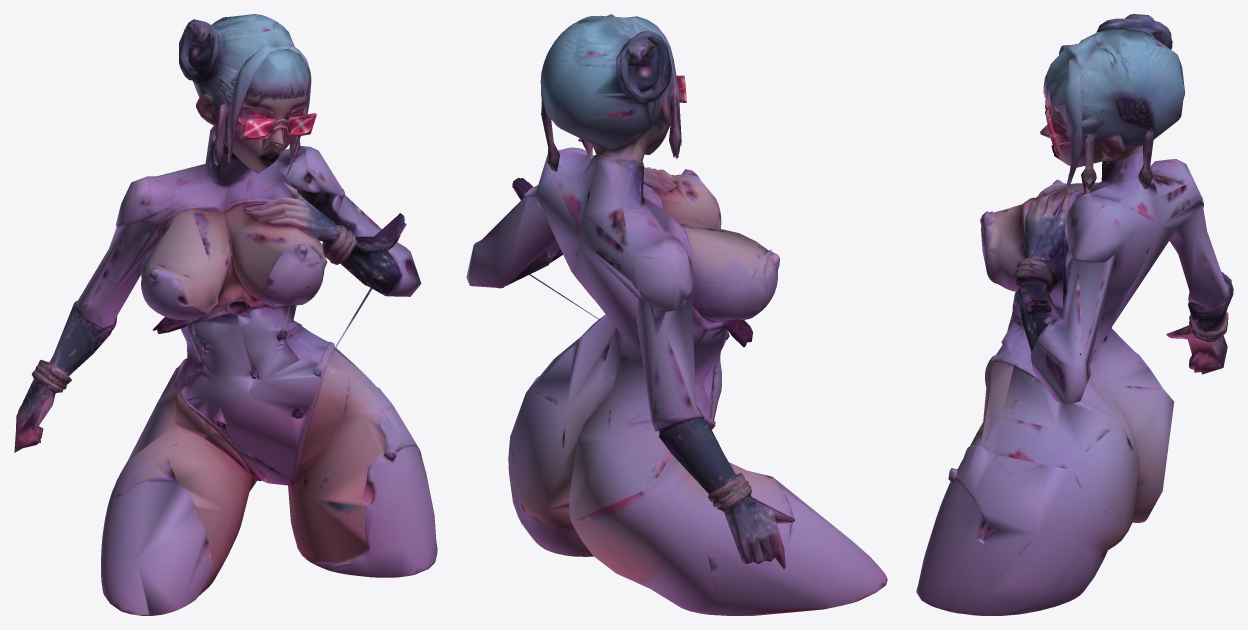
File: girl-13.glb
3 views of the same model, side by side, from view 1: azimuth 30°, elevation 25°; view 2: azimuth 150°, elevation 25°; view 3: azimuth 270°, elevation 25° (orthographic). The views are drawn at different scales.
Parts seen in each view (by area): view 1: node_0; view 2: node_0; view 3: node_0.
Boxes of the visible parts, x1,y1,x2,y2 form: node_0: [14, 14, 437, 615]; node_0: [466, 14, 887, 615]; node_0: [916, 14, 1233, 615].
Size of the model in its own units: 0.6938 by 0.9607 by 0.5291.
Materials: 1 (1 with a texture image).
